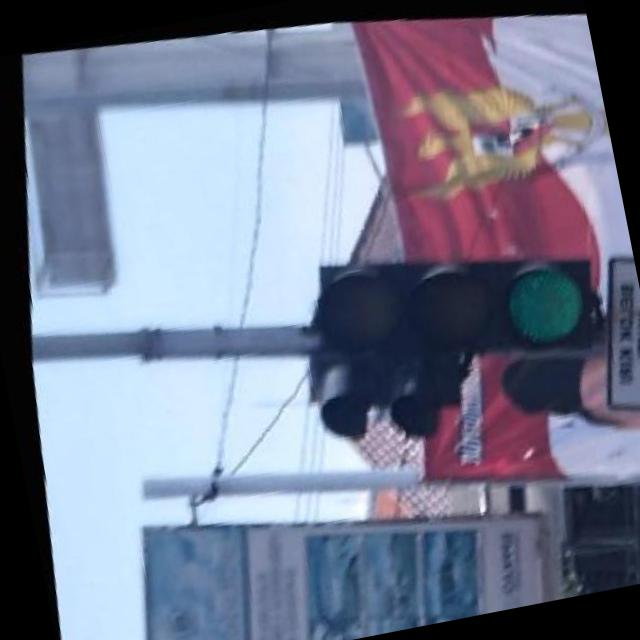green-lights: (500, 240, 602, 354)
